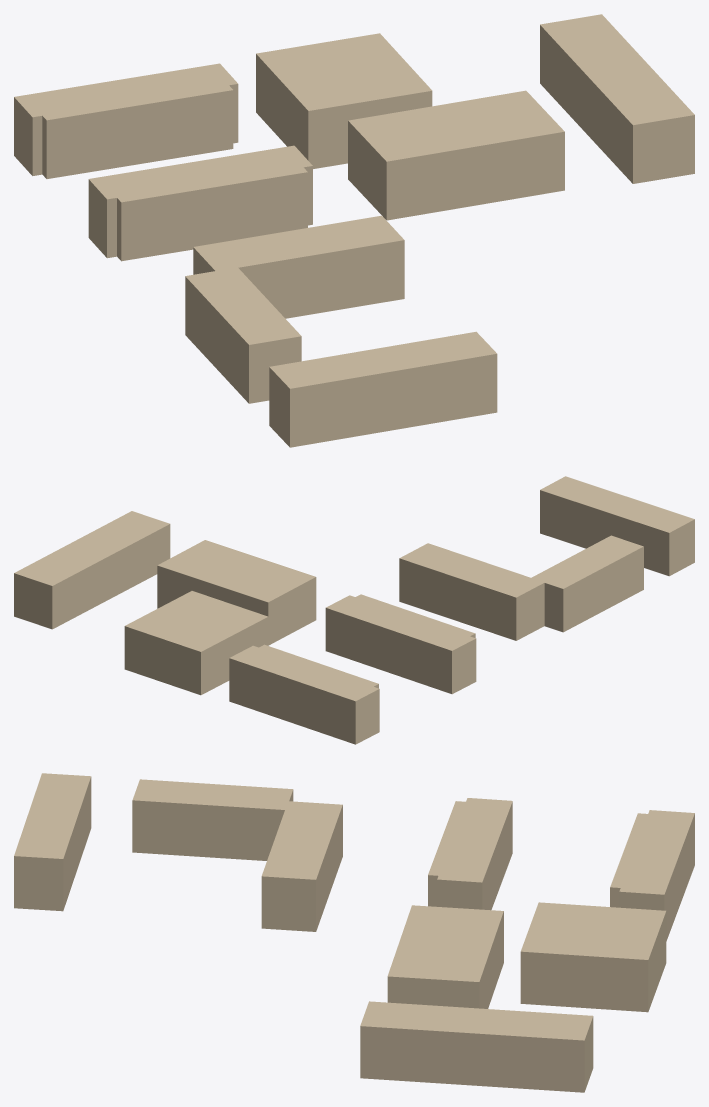
File: -11_7-estimated-coarse.glb
The picture shows the model from 3 angles, top to bottom: view 1: azimuth 30°, elevation 25°; view 2: azimuth 150°, elevation 25°; view 3: azimuth 270°, elevation 25°; orthographic projection. The views are drawn at different scales.
Bounding box in the file's own units: 132 × 12 × 142.
